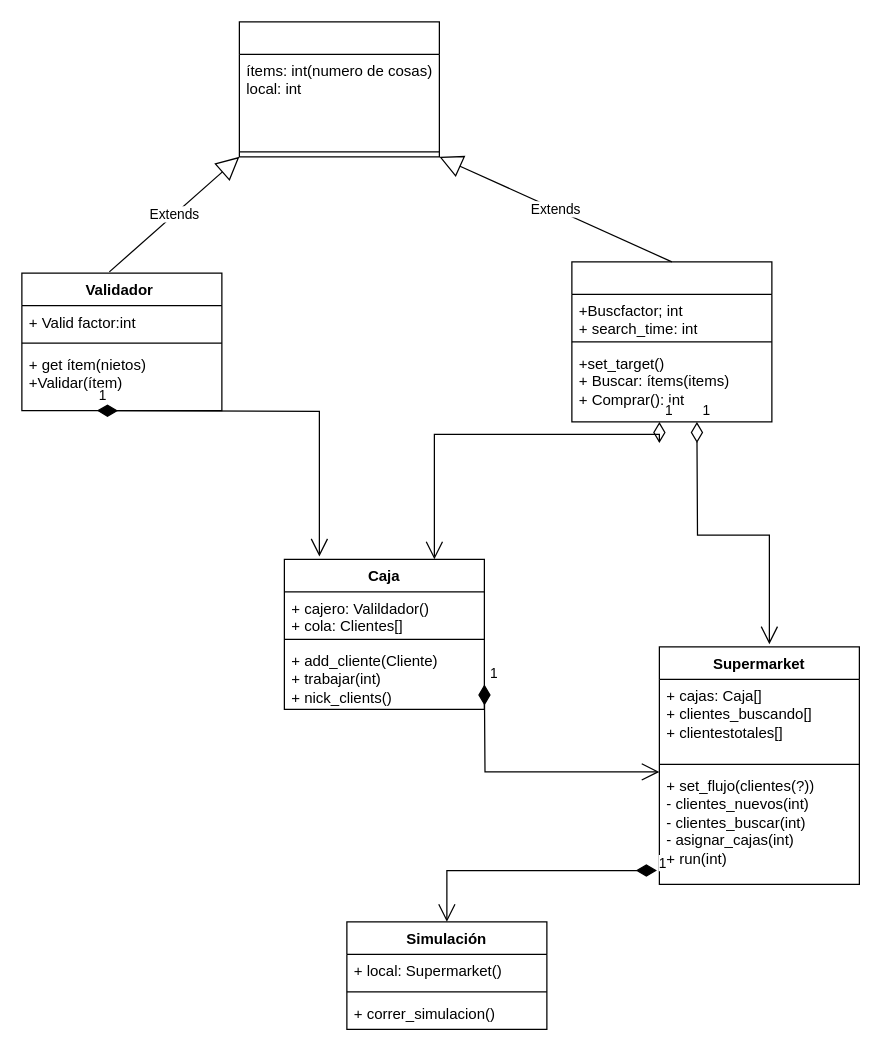
Image size: 881x1055. Some labels were removed from this diagram. The box of each missing label's shape, as (x1, y1, x2, y2) in pixels:
Clientes: (571, 261, 772, 422)
Persona: (238, 21, 439, 157)
